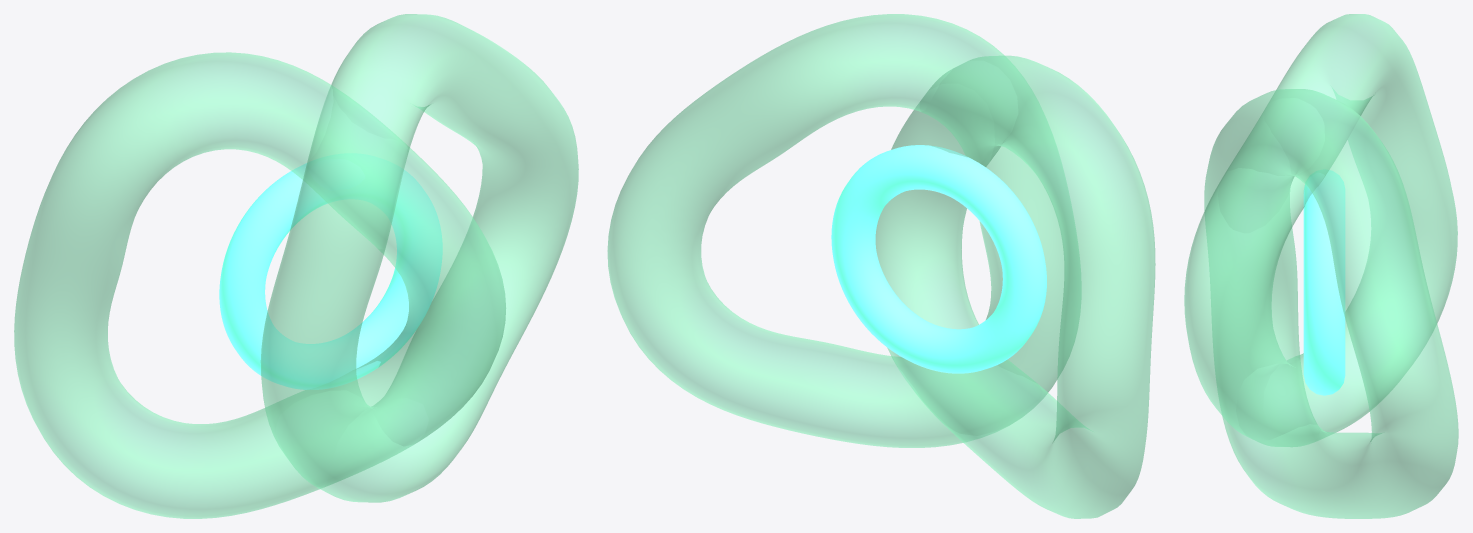
File: education.glb
The picture shows the model from 3 angles, left to right: view 1: azimuth 30°, elevation 25°; view 2: azimuth 150°, elevation 25°; view 3: azimuth 270°, elevation 25°; orthographic projection. The views are drawn at different scales.
Parts seen in each view (by area): view 1: Shared orbit -1, Shared orbit 1, Connection; view 2: Shared orbit 1, Shared orbit -1, Connection; view 3: Shared orbit 1, Shared orbit -1, Connection.
Part boxes in pixels (box(x1,y1,x2,y2)): Shared orbit -1: box(14, 52, 505, 518); Shared orbit 1: box(260, 14, 578, 502); Connection: box(219, 154, 442, 389); Shared orbit 1: box(607, 14, 1081, 447); Shared orbit -1: box(875, 55, 1155, 518); Connection: box(831, 145, 1046, 373); Shared orbit 1: box(1204, 89, 1458, 518); Shared orbit -1: box(1184, 14, 1457, 446); Connection: box(1303, 170, 1345, 395).
Size of the model in its own units: 2.48 by 1.93 by 1.19.
